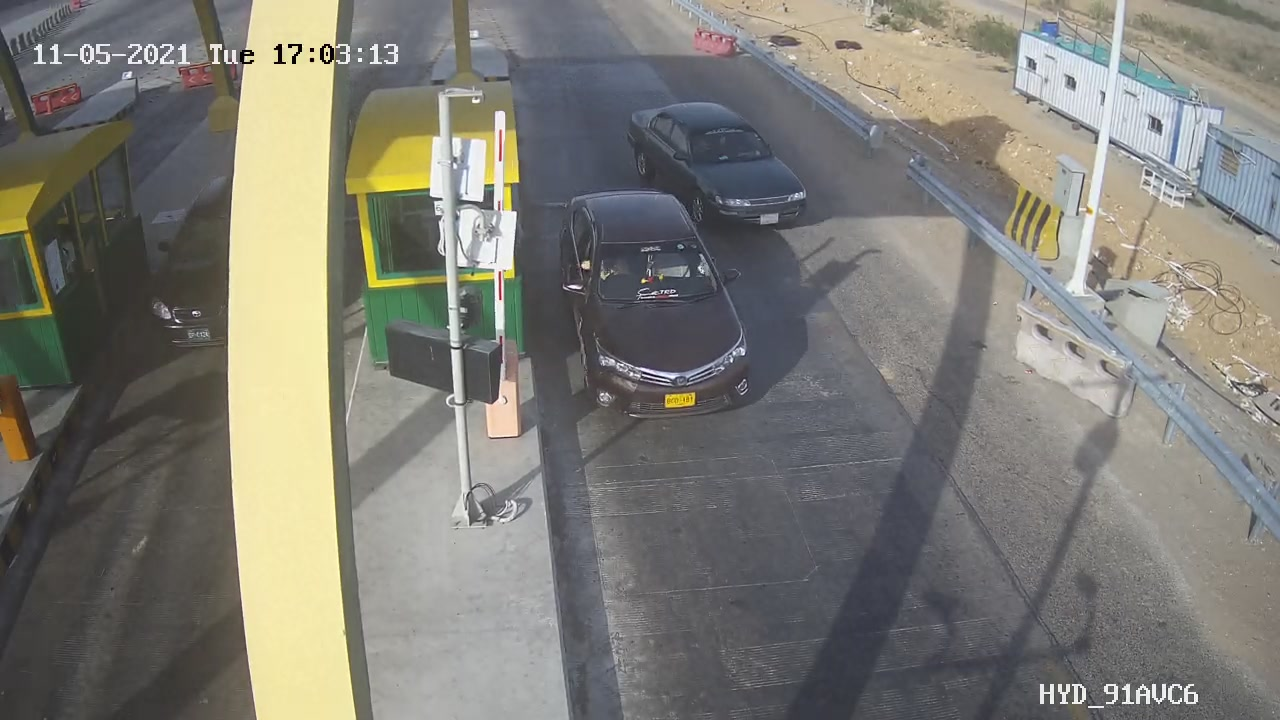F1: (537, 173, 774, 444), (611, 86, 827, 249)
